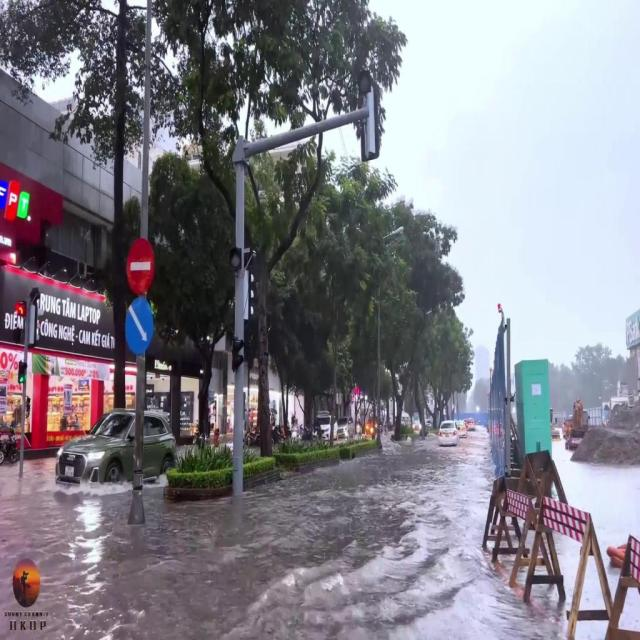cam_xe_di_nguoc_chieu: (126, 236, 154, 295)
huong_phai_di_vuot_chuong_ngai_vat_phai: (126, 298, 154, 354)
